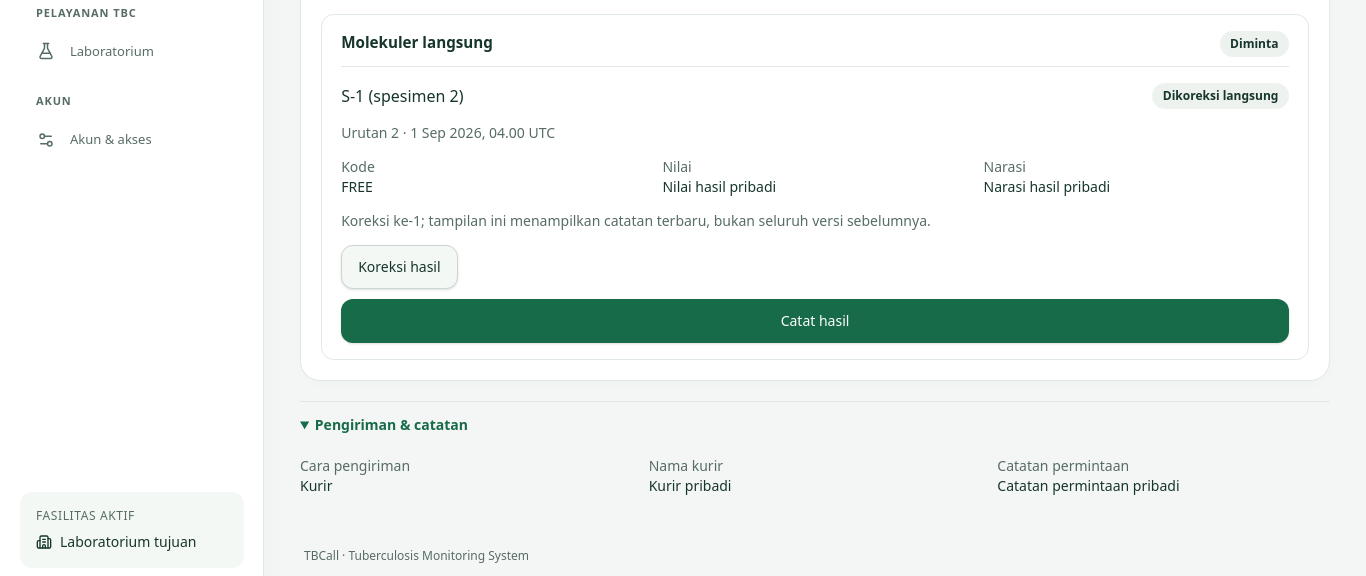
Test: successful result remains saved even if authoritative detail refresh fails
This screenshot has width=1366, height=576.
(page scrolled)
Click the button with aria-label "Catat hasil Molekuler langsung" at (815, 320), box x1=341 y1=298 x2=1289 y2=342
(page scrolled)
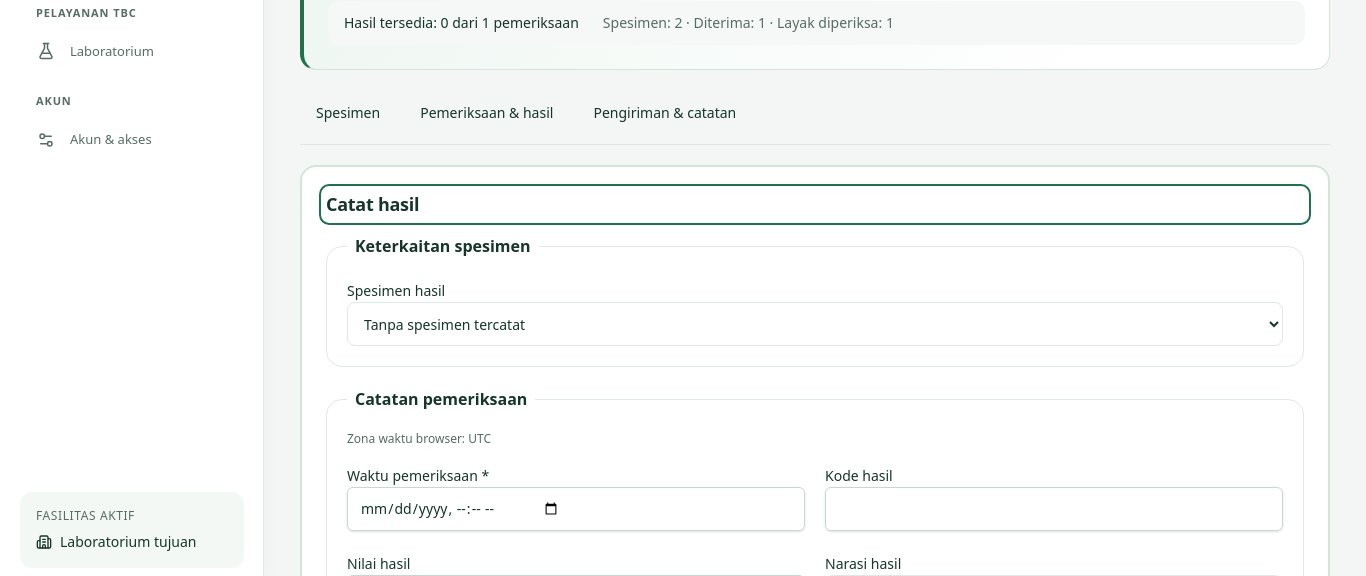
Type "2026-09-01T12:00" into the field labelled "Waktu pemeriksaan *" at (576, 509), box x1=347 y1=487 x2=805 y2=531
(page scrolled)
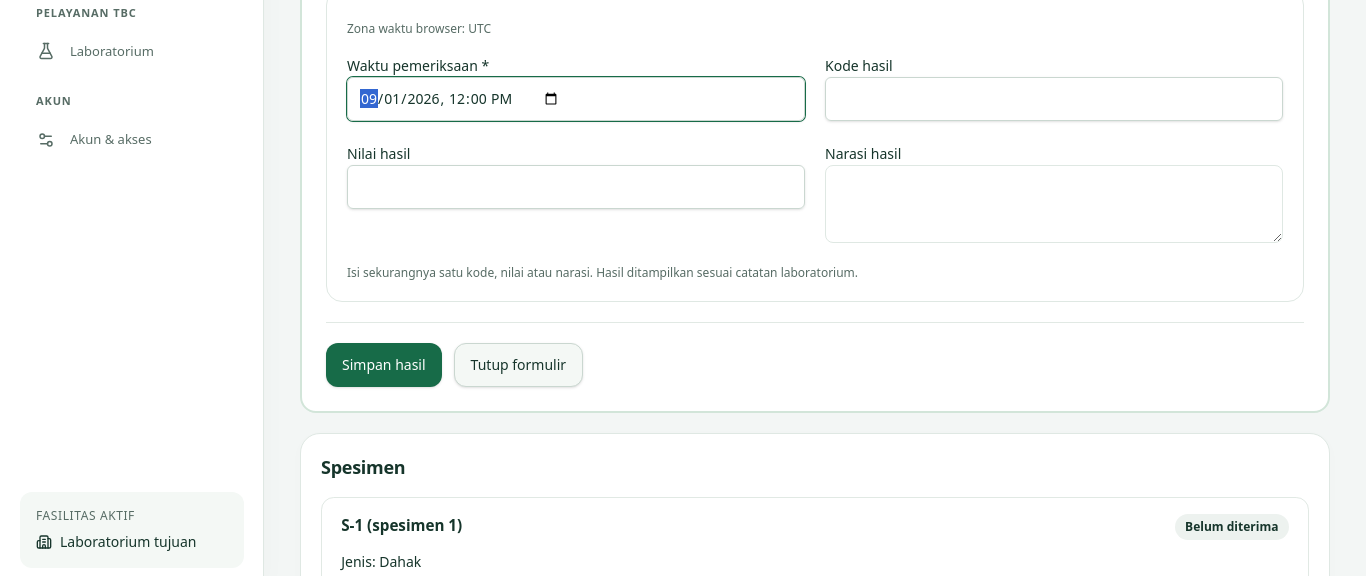
Type "Saved narrative" into the text box labelled "Narasi hasil" at (1054, 204), box x1=825 y1=165 x2=1283 y2=243
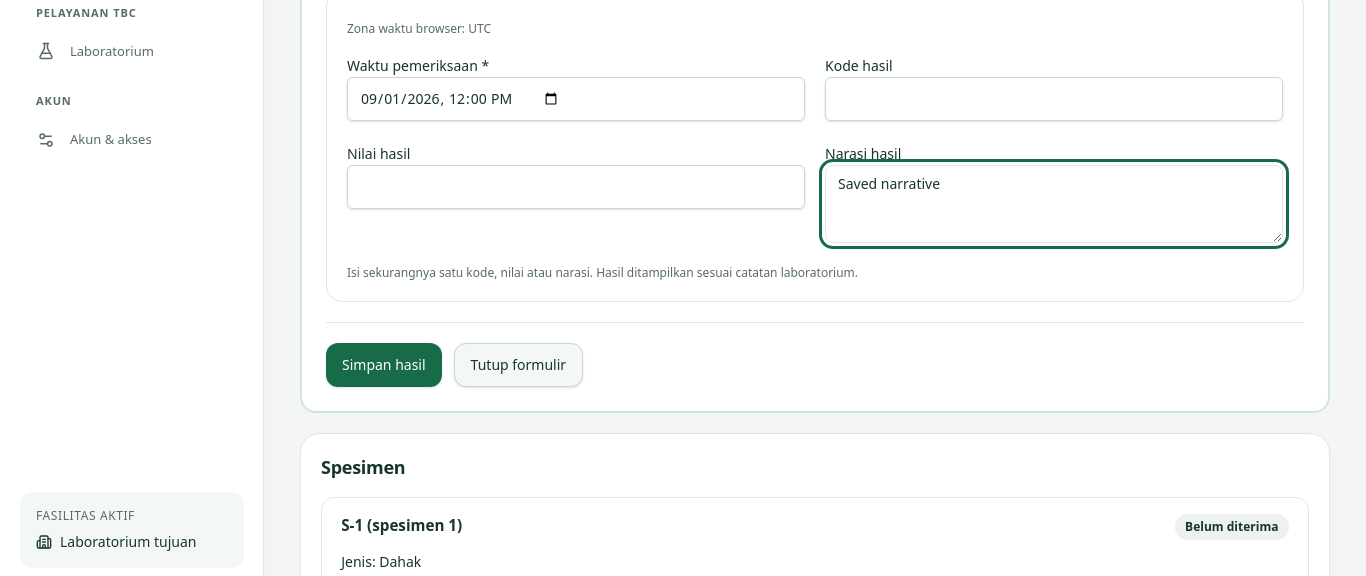
Click the button "Simpan hasil" at (384, 365), box x1=326 y1=343 x2=442 y2=387
(page scrolled)
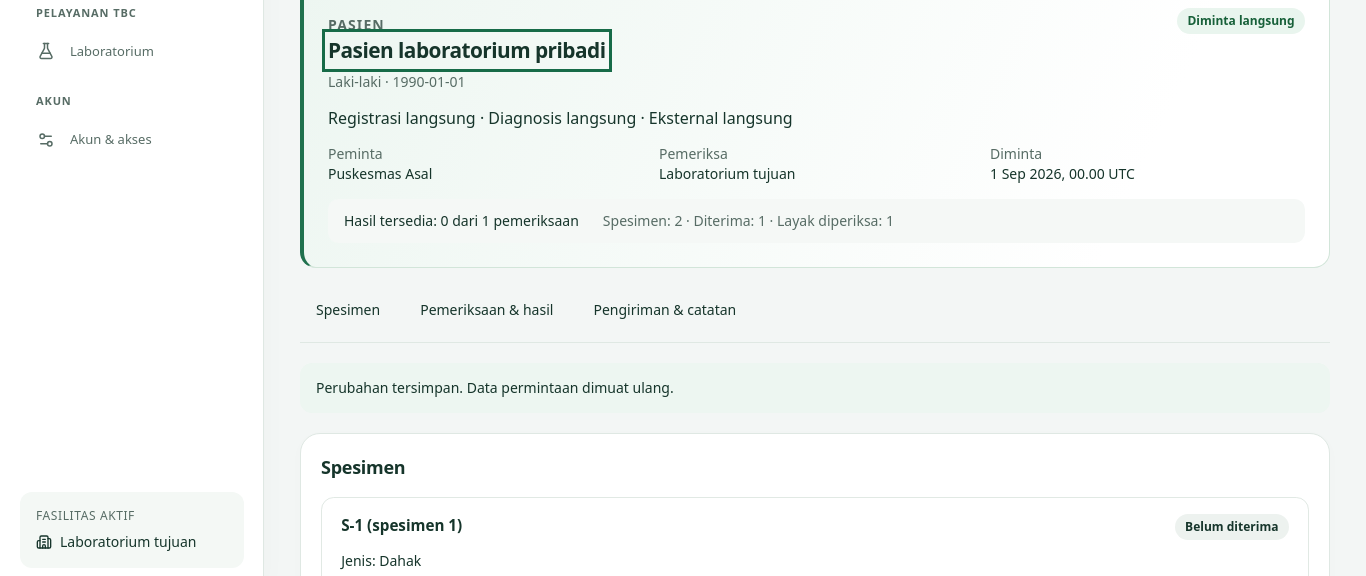
Expected: the field labelled "Narasi hasil" is not shown
Expected: the text "Perubahan tersimpan. Data permintaan dimuat ulang." is shown, x1=300 y1=363 x2=1330 y2=413
